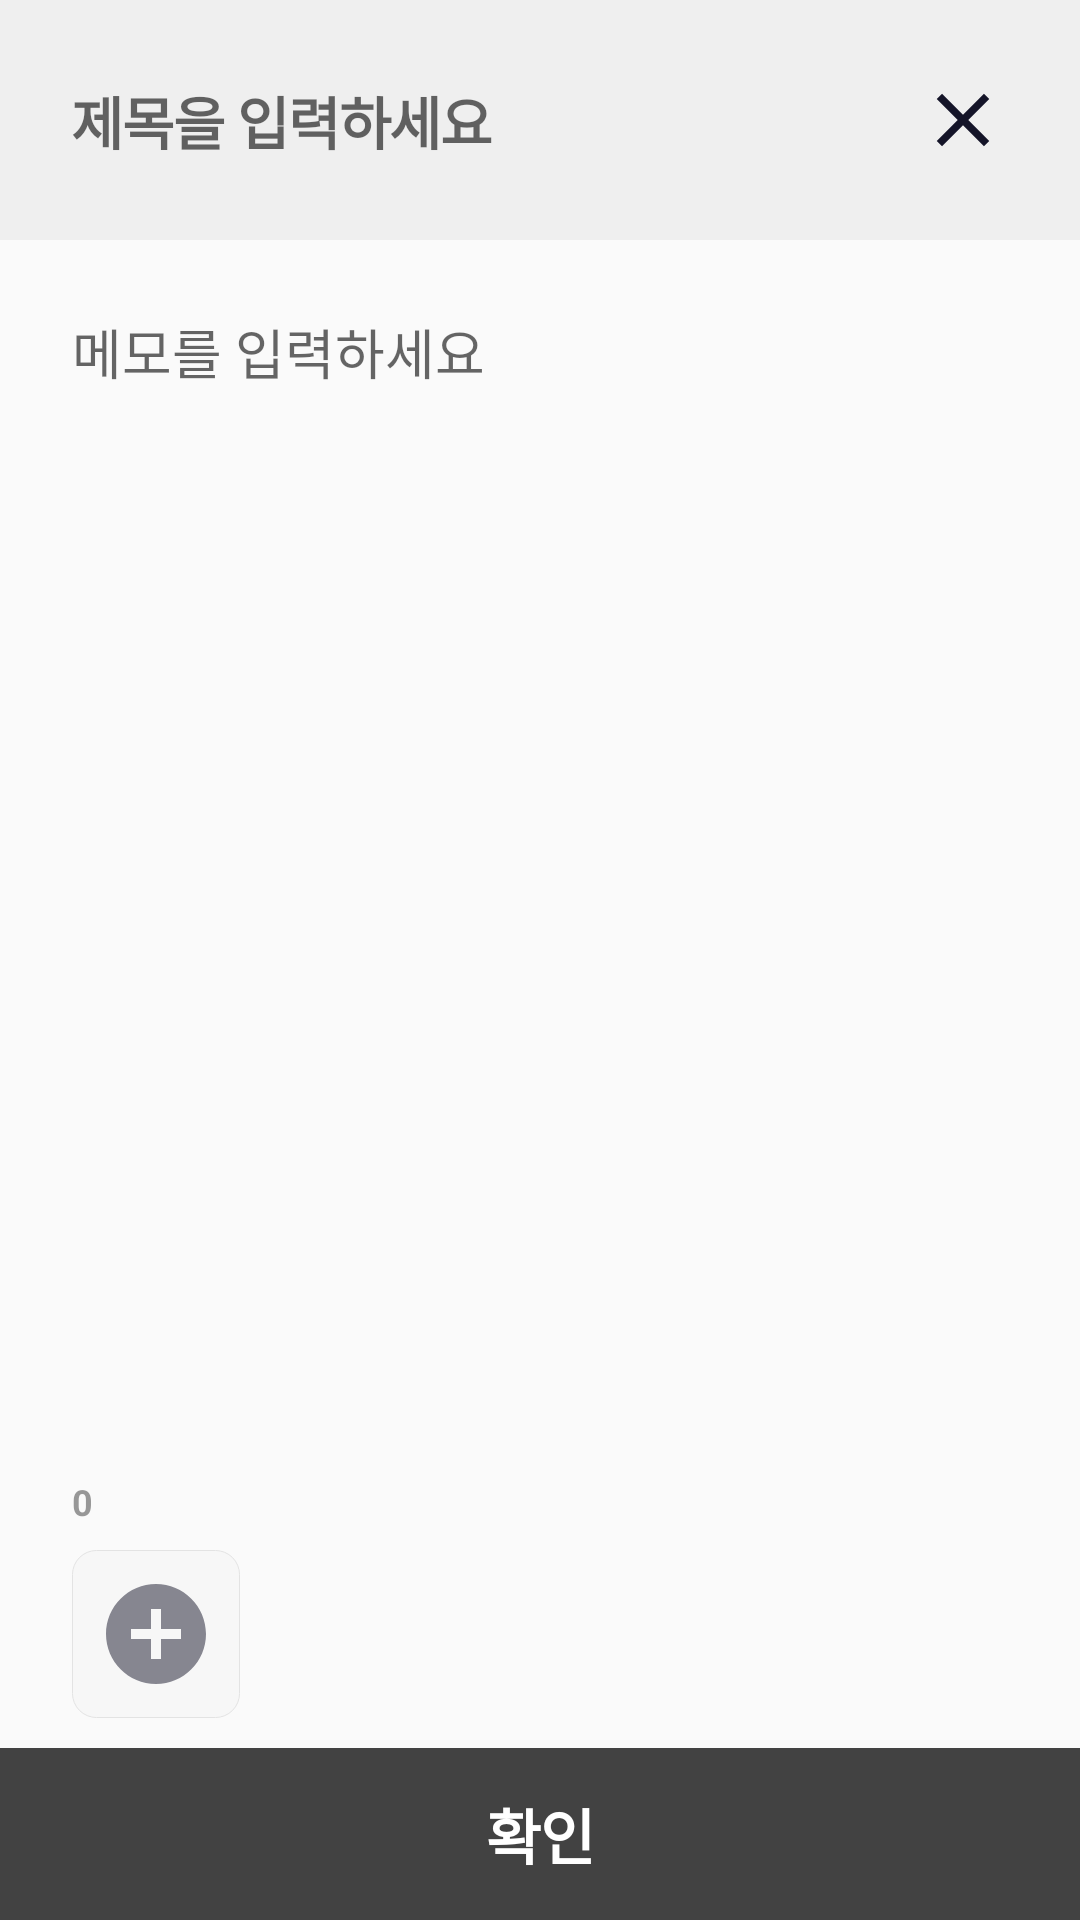

Screen size 1080px x 1920px. Icon name, then its box in pixels as [x1=x1, y1=y1, x2=x2, y2=y2]:
add circle: [x1=106, y1=1584, x2=206, y2=1684]
clear: [x1=937, y1=94, x2=989, y2=146]
